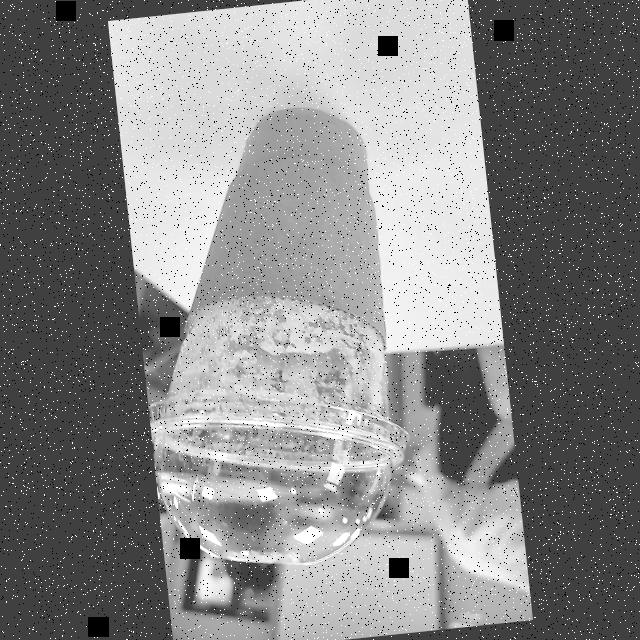plastic_cup: (119, 98, 415, 583)
plastic_cup_lid: (146, 367, 422, 584)
